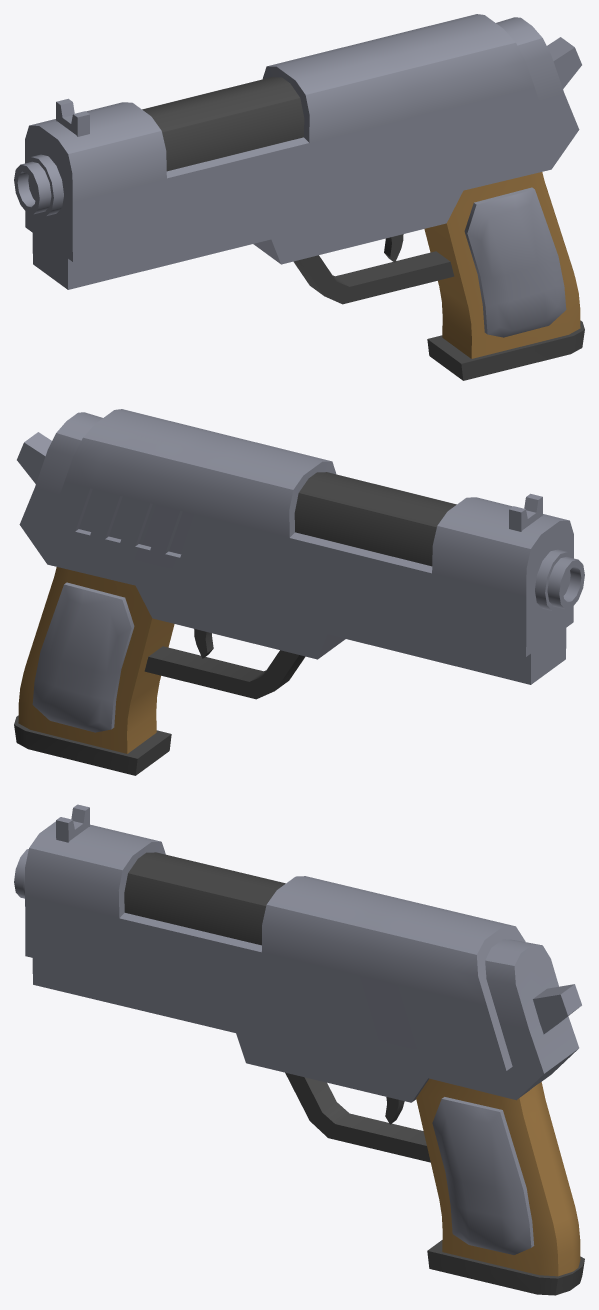
File: Pistol.glb
The picture shows the model from 3 angles, top to bottom: view 1: azimuth 30°, elevation 25°; view 2: azimuth 150°, elevation 25°; view 3: azimuth 330°, elevation 25°; orthographic projection.
Visible parts, largest first — view 1: Pistol; view 2: Pistol; view 3: Pistol.
Boxes of the visible parts, bbox=[...] form: Pistol: bbox=[14, 14, 584, 380]; Pistol: bbox=[14, 409, 584, 775]; Pistol: bbox=[14, 804, 584, 1295].
Size of the model in its own units: 0.7909 by 0.4822 by 0.1181.
